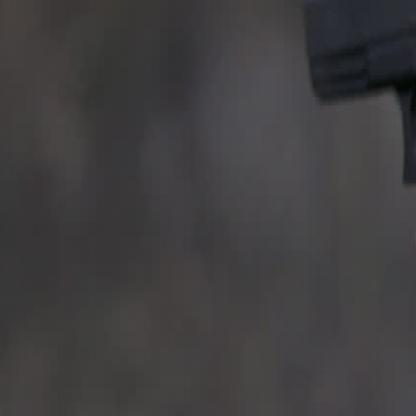gun: (297, 0, 415, 194)
